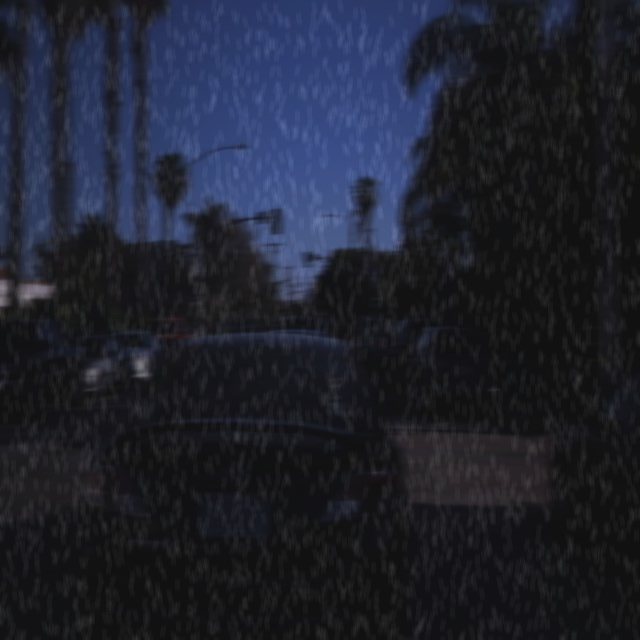go: (371, 282, 380, 302), (304, 248, 312, 268), (190, 282, 198, 302)
go traffic light: (371, 282, 380, 302), (304, 248, 312, 268), (190, 282, 198, 302)
